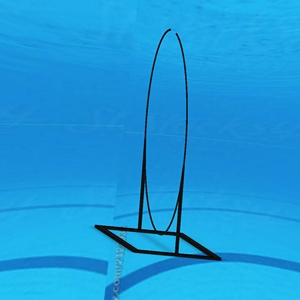circle: (94, 26, 223, 263)
